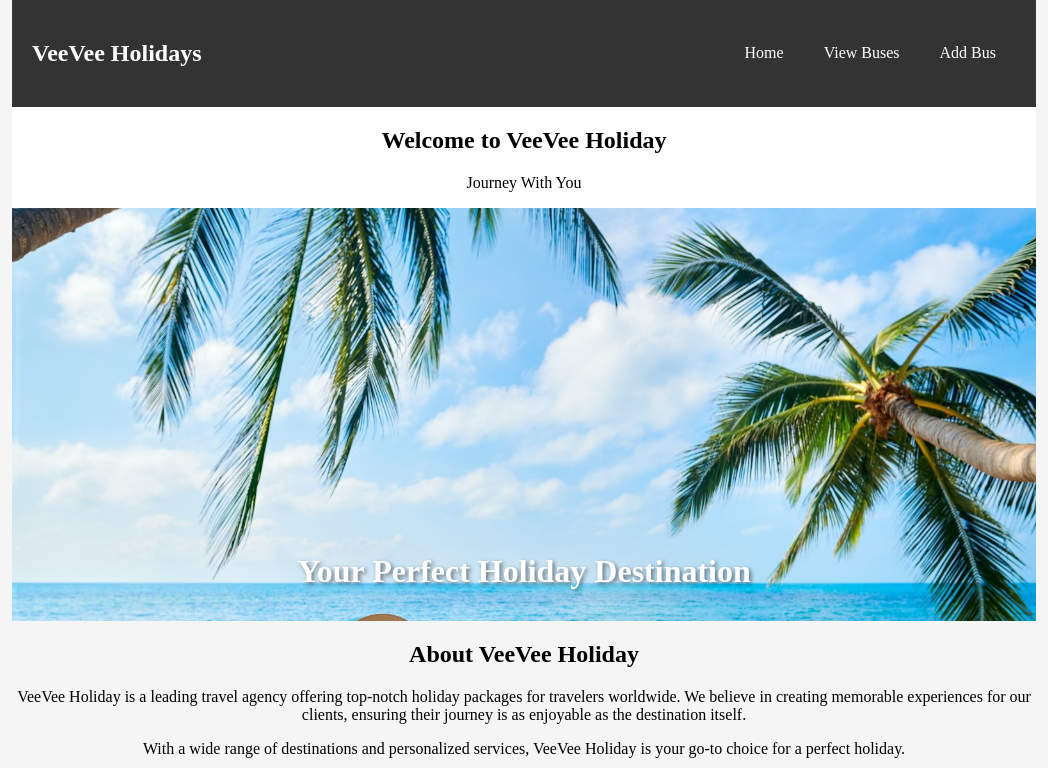
Test case: renders_AddBus_component_title_correctly
Click the link "Add Bus" at (968, 53), box [940,44,996,61]
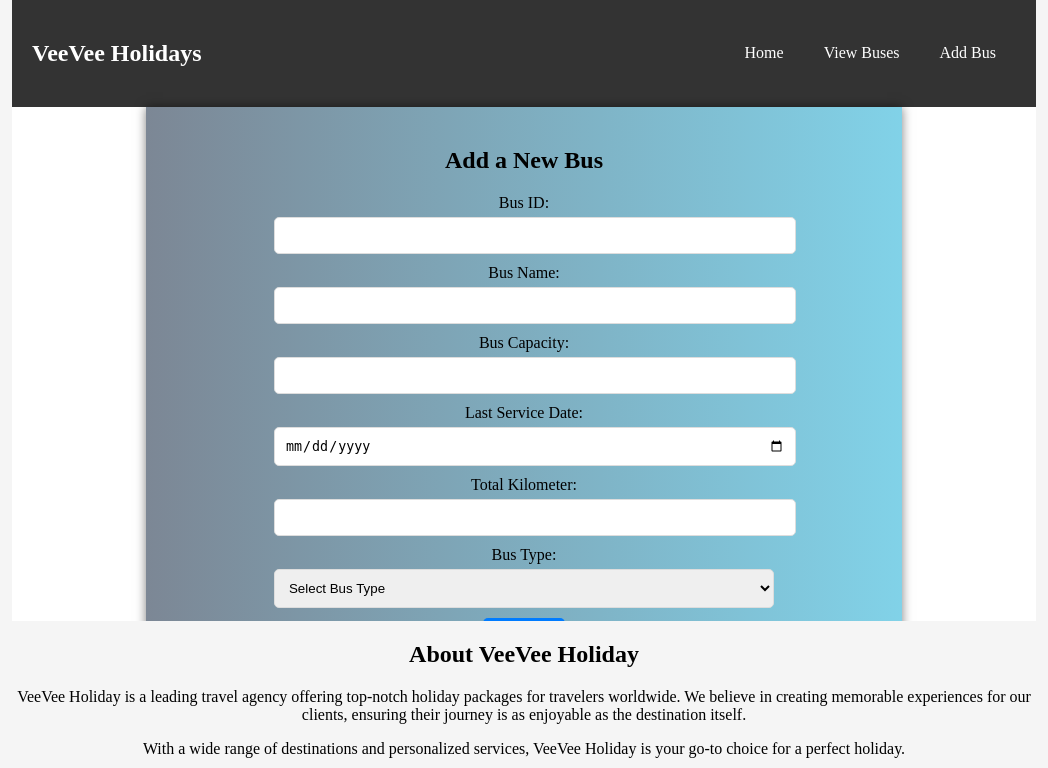
Result: the heading "Add a New Bus" is shown at [445,147,603,174]
